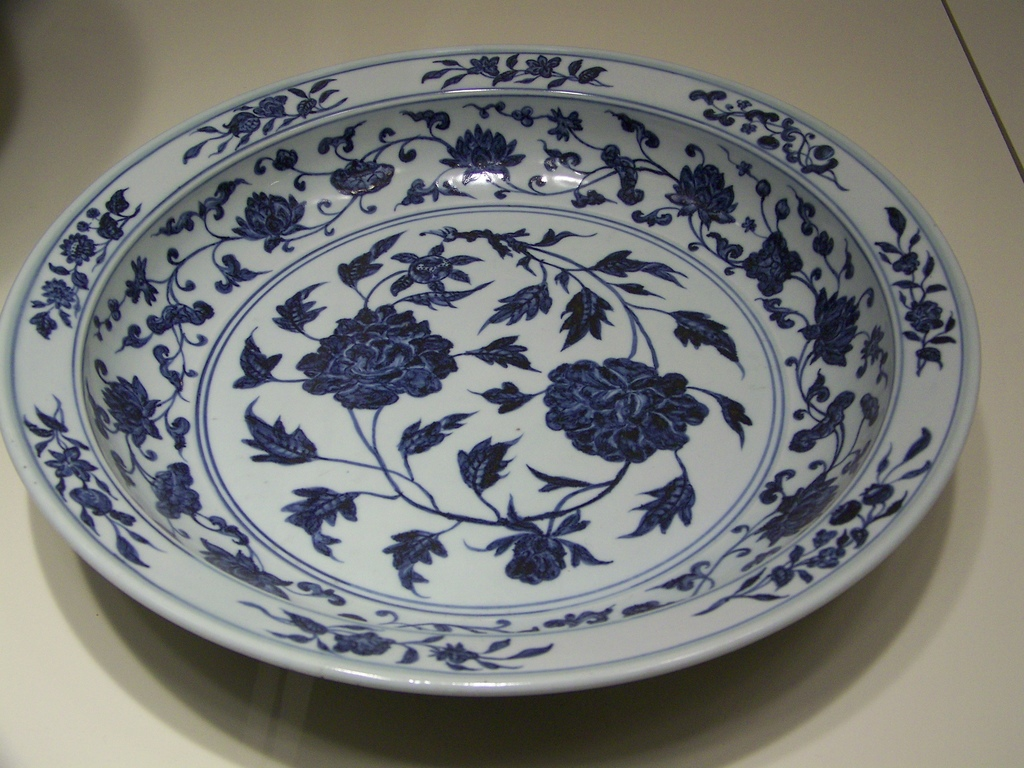plate: (0, 39, 991, 698)
